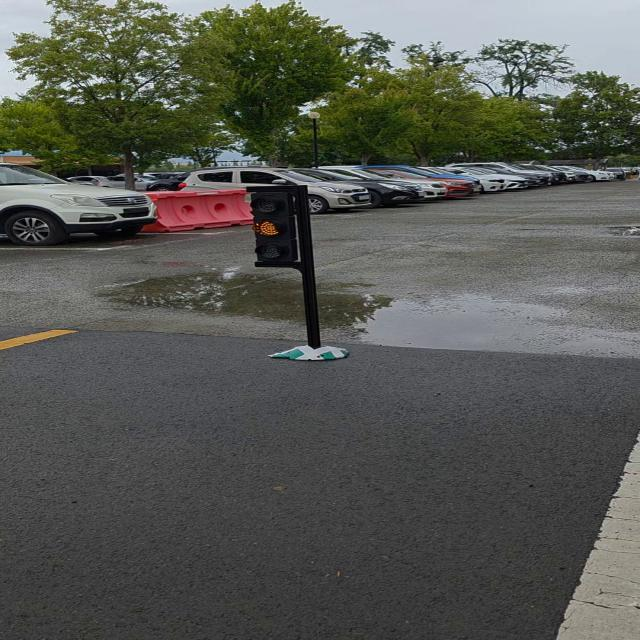yellow: (247, 189, 301, 266)
